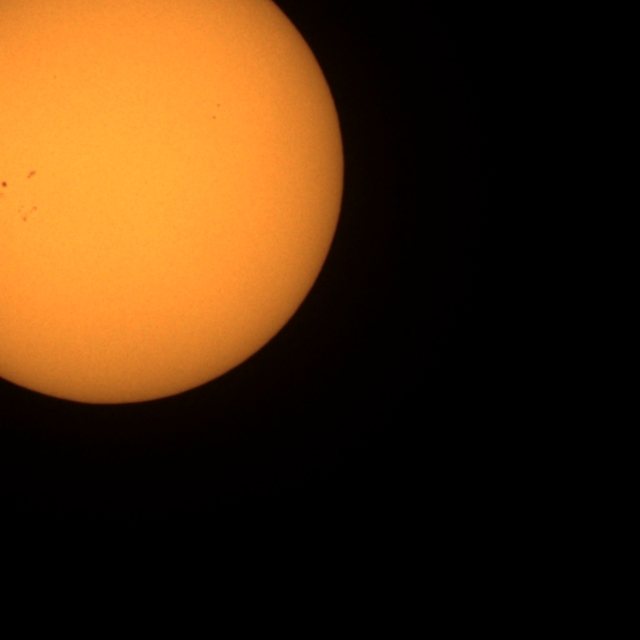sunspot: (18, 204, 38, 222), (211, 106, 221, 121), (26, 169, 37, 180), (211, 112, 219, 121), (0, 180, 8, 188), (215, 102, 222, 108)
